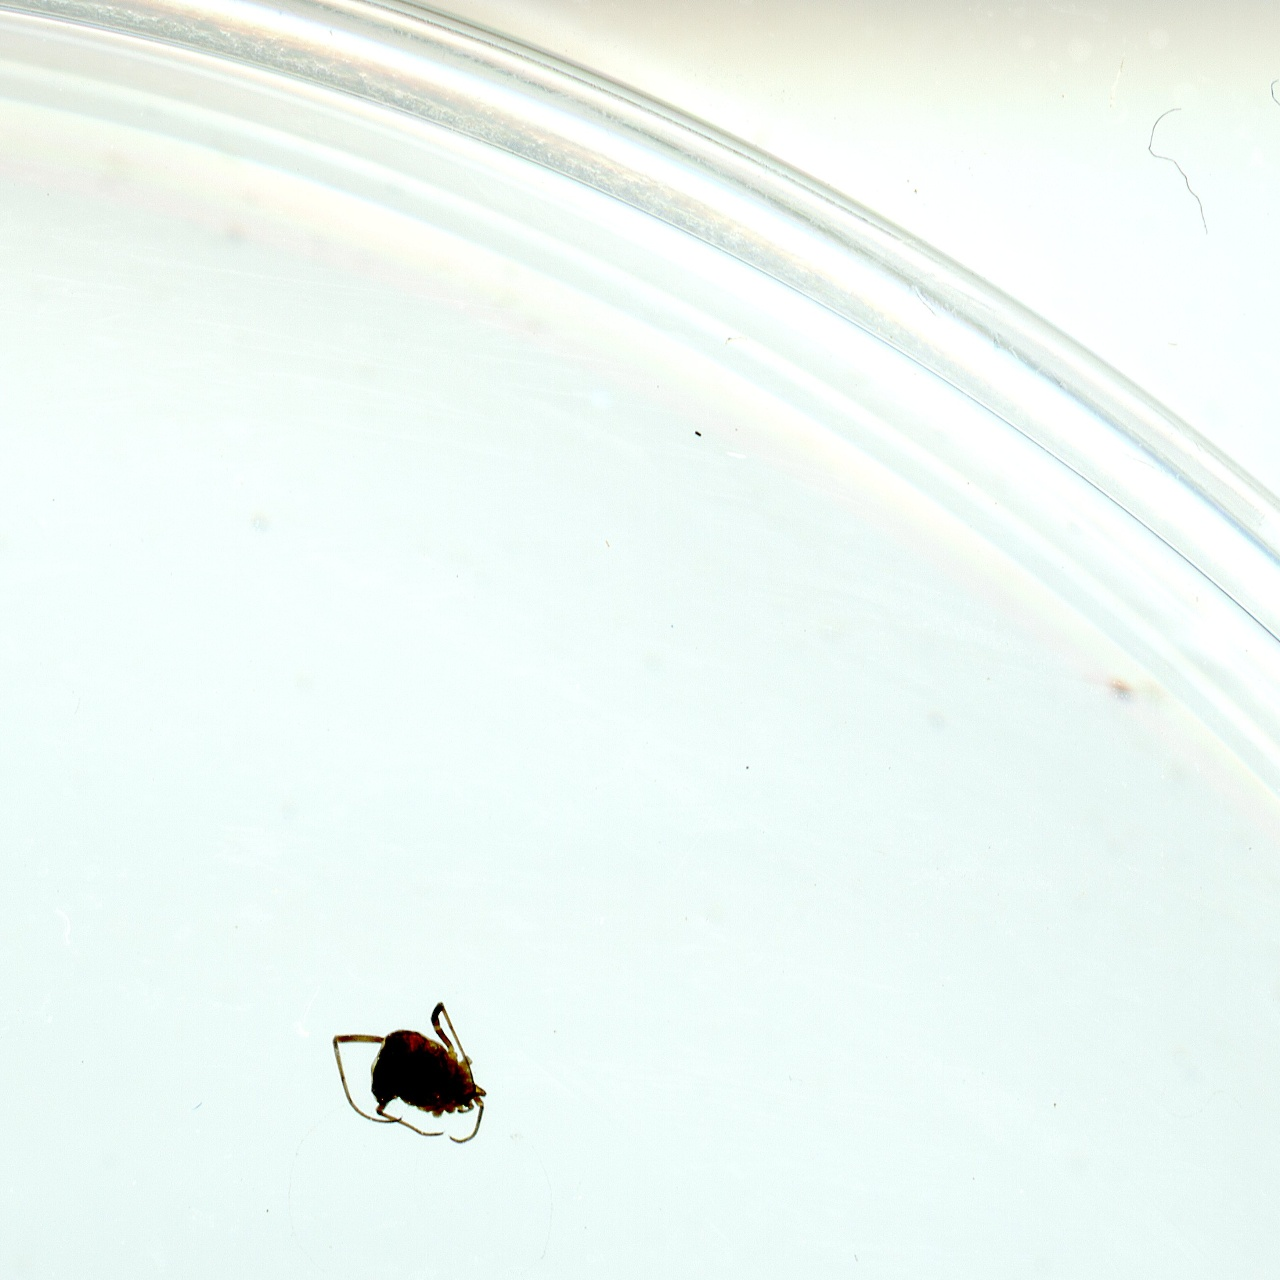arthropod: (312, 991, 499, 1167)
